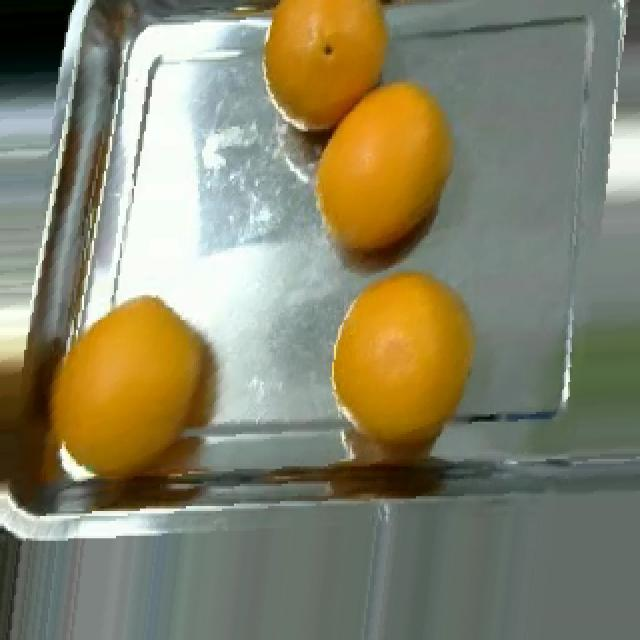Fruit: (316, 256, 496, 477), (300, 59, 470, 268), (246, 0, 402, 146)
